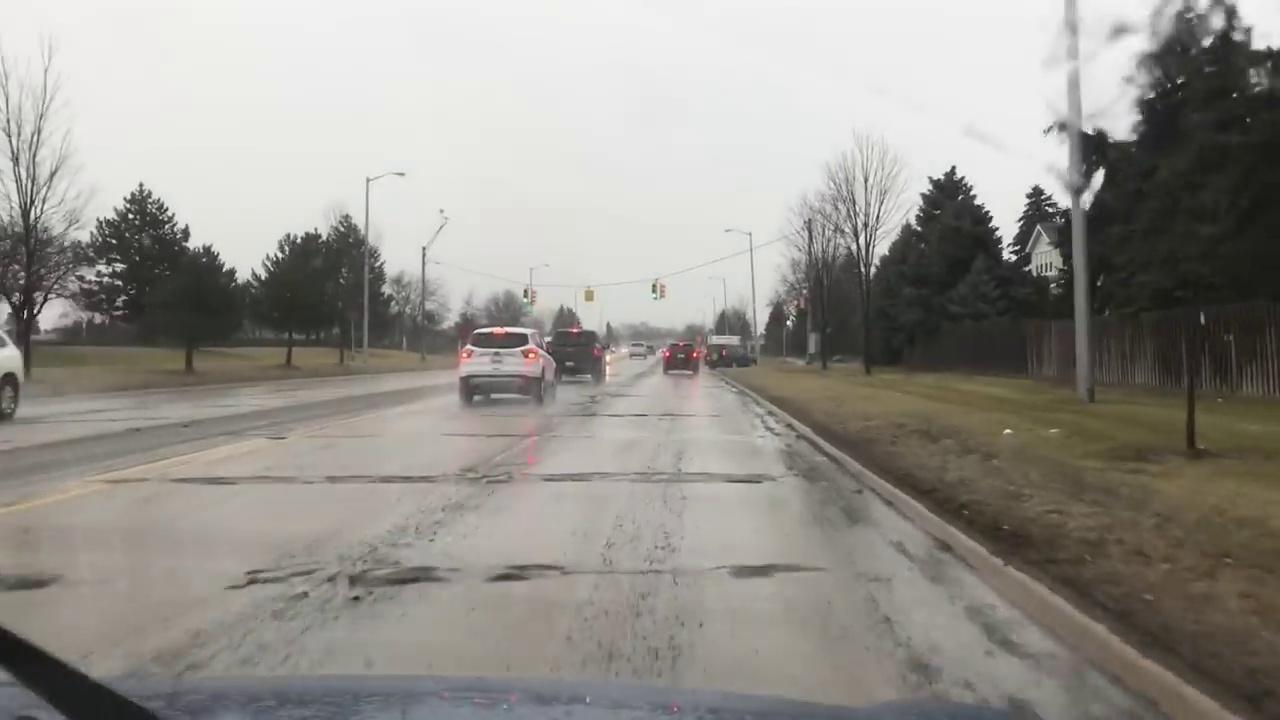pothole: (498, 470, 774, 487), (224, 560, 326, 589), (346, 563, 449, 591), (321, 470, 455, 489), (481, 561, 585, 585), (166, 471, 302, 488)
